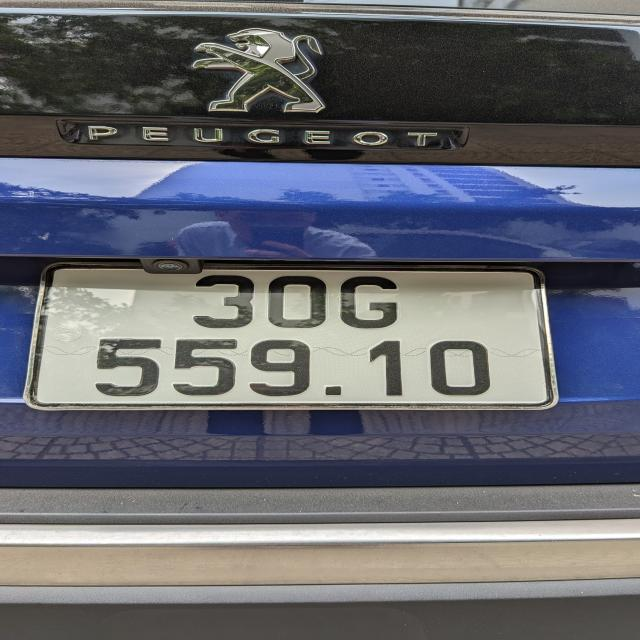License: (23, 259, 559, 412)
